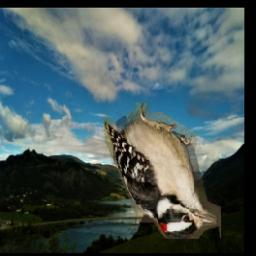Woodpecker: (103, 103, 220, 239)
